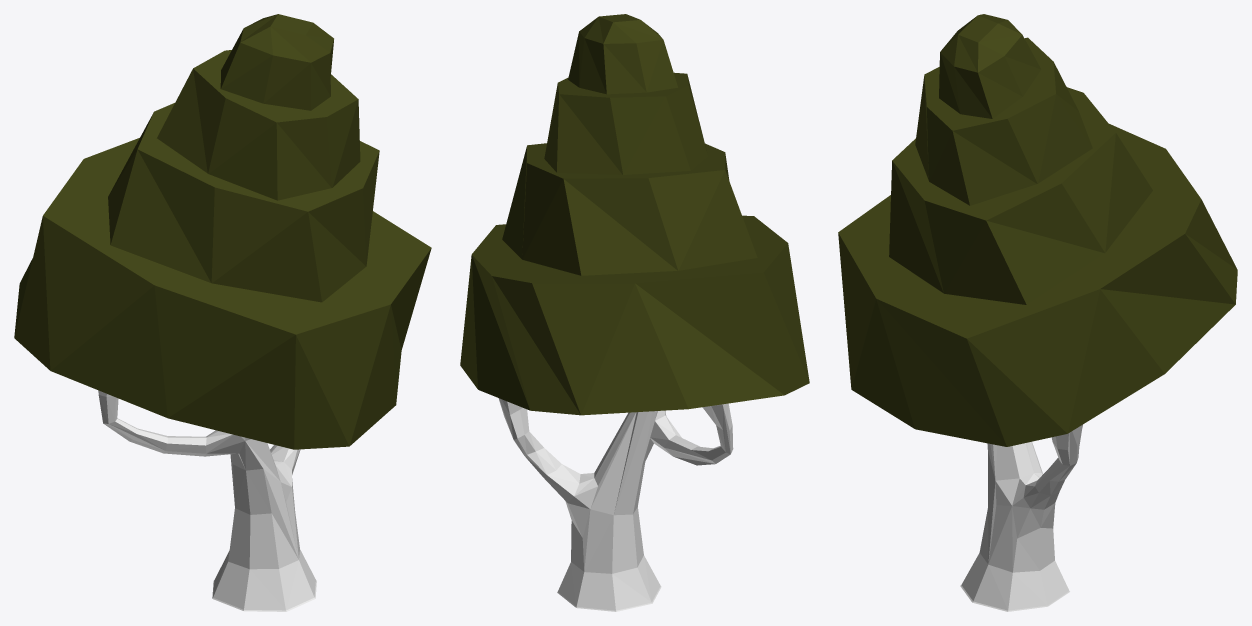
File: tree_solid_02a.fbx
3 views of the same model, side by side, from view 1: azimuth 30°, elevation 25°; view 2: azimuth 150°, elevation 25°; view 3: azimuth 270°, elevation 25° (orthographic). The views are drawn at different scales.
Visible parts, largest first — view 1: tree_solid_02; view 2: tree_solid_02; view 3: tree_solid_02.
Boxes of the visible parts, x1=… form: tree_solid_02: x1=14, y1=14, x2=431, y2=611; tree_solid_02: x1=460, y1=14, x2=809, y2=611; tree_solid_02: x1=838, y1=14, x2=1237, y2=611.
Bounding box in the file's own units: 5.09 × 7.89 × 5.03.
